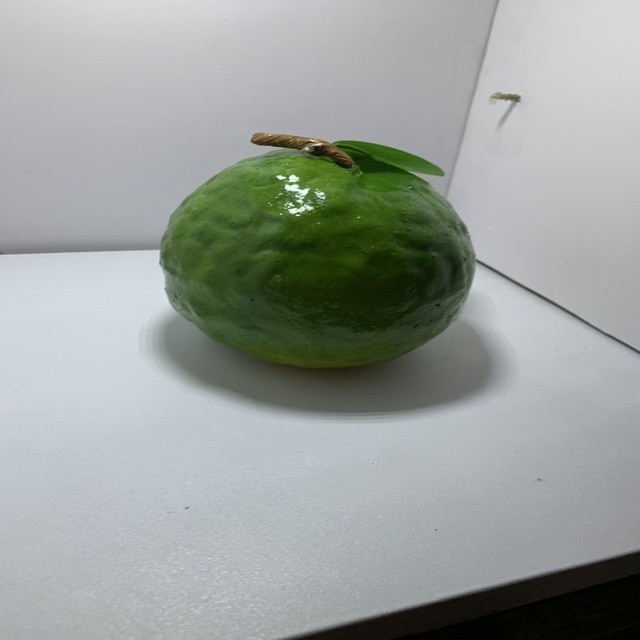Cam xanh: (149, 122, 482, 378)
